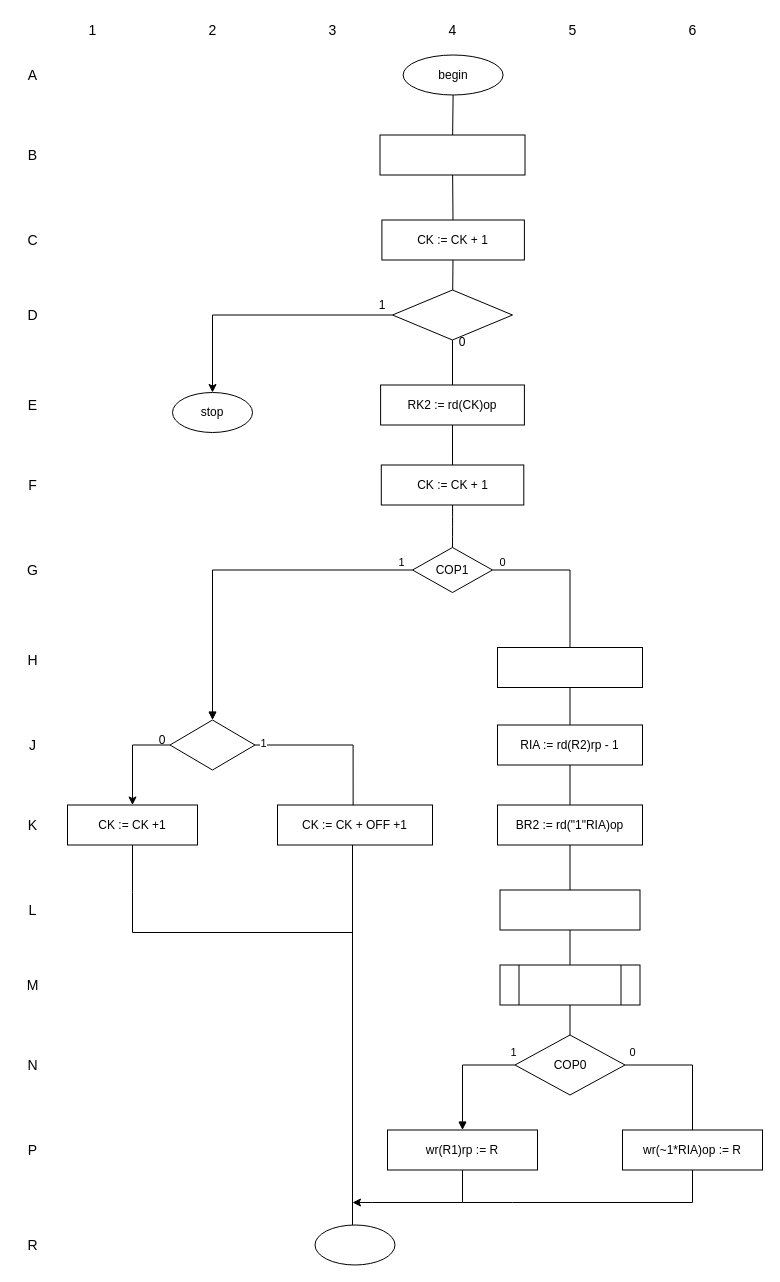
The diagram is 780 pixels wide and 1282 high, and some of its shapes have lost their labels. Here are the shapes that lost their labels. From the top down, the centre of each, then its label:
(x=452, y=154): RK1 := rd(CK)op
(x=452, y=314): COP0 &&COP1
(x=569, y=667): BR1 := rd(R1)rp
(x=212, y=744): KM == PR
(x=569, y=909): wr(R2)rp := rd(R2)rp - 1
(x=569, y=984): АЛУ
(x=354, y=1244): end
